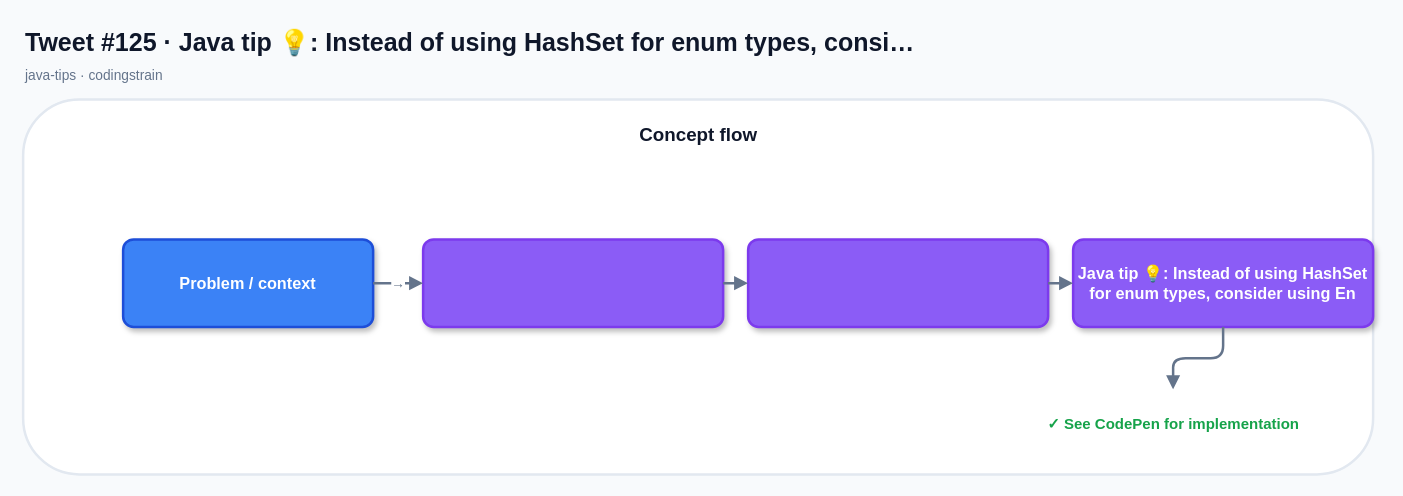
The diagram is 1403 pixels wide and 496 high, and some of its shapes have lost their labels. The shapes that lost their labels are listed below. From the top down, each one's centre as x and y in pixels, then its label:
At point (573, 284): "💡 Java tip 💡: Instead of using HashSet for enum types, consider using".
At point (898, 284): "Example:".
